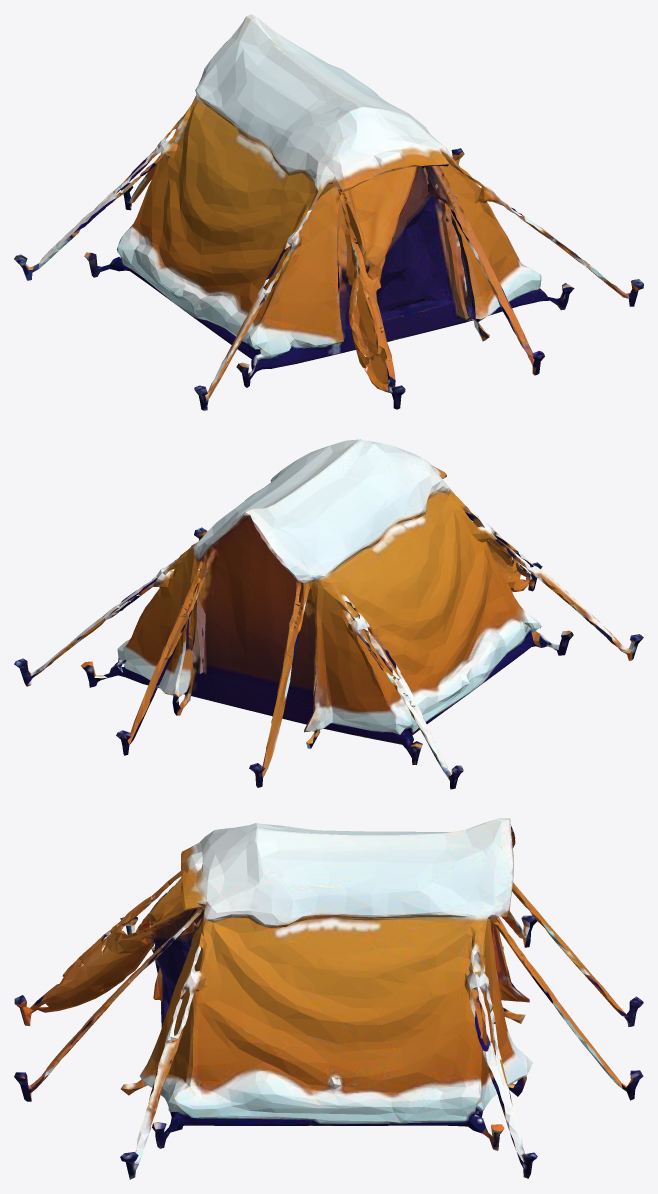
The model's file is tent_camp.glb.
The picture shows the model from 3 angles, top to bottom: view 1: azimuth 30°, elevation 25°; view 2: azimuth 150°, elevation 25°; view 3: azimuth 270°, elevation 25°; orthographic projection. The views are drawn at different scales.
Parts seen in each view (by area): view 1: tmpe6bl5r6_.ply; view 2: tmpe6bl5r6_.ply; view 3: tmpe6bl5r6_.ply.
Part boxes in pixels (x1=…): tmpe6bl5r6_.ply: x1=14, y1=14, x2=643, y2=410; tmpe6bl5r6_.ply: x1=14, y1=439, x2=643, y2=789; tmpe6bl5r6_.ply: x1=14, y1=818, x2=643, y2=1179.
Bounding box in the file's own units: 1.83 × 0.8561 × 2.
Materials: 1 (1 with a texture image).
